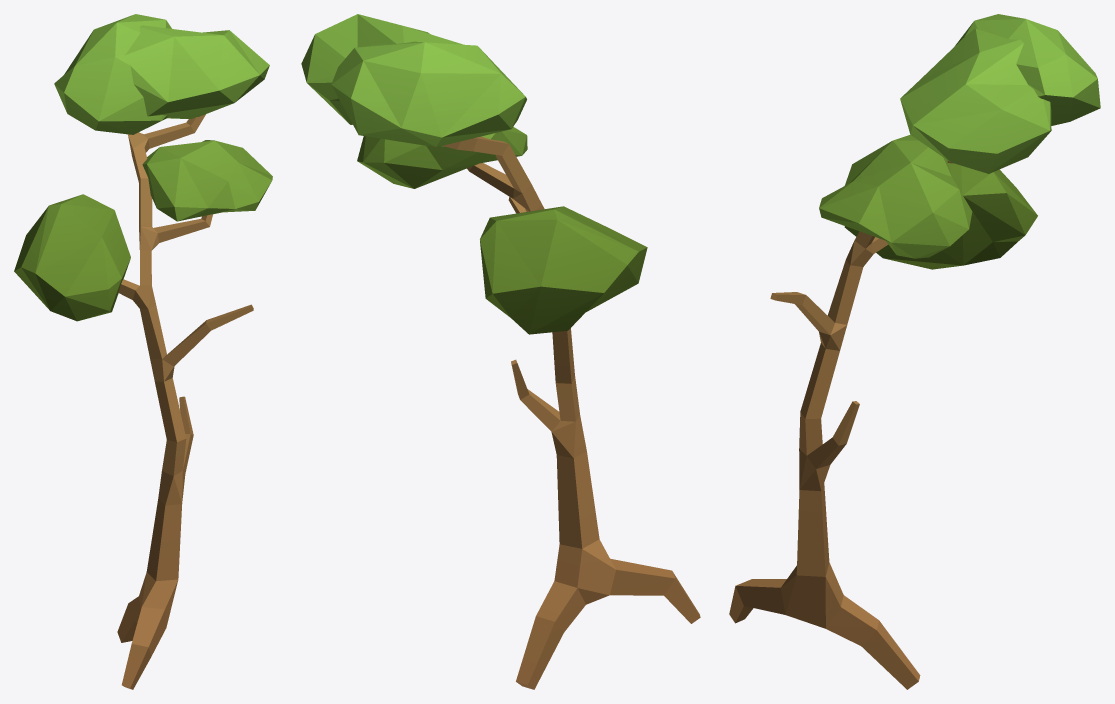
The model's file is LP_Tree_07.fbx.
3 renders of one model, left to right at view 1: azimuth 30°, elevation 25°; view 2: azimuth 150°, elevation 25°; view 3: azimuth 270°, elevation 25°, orthographic. The views are drawn at different scales.
Visible parts, largest first — view 1: LP_Tree_07_LOD0; view 2: LP_Tree_07_LOD0; view 3: LP_Tree_07_LOD0.
Boxes of the visible parts, x1=… form: LP_Tree_07_LOD0: x1=14, y1=14, x2=272, y2=689; LP_Tree_07_LOD0: x1=301, y1=14, x2=700, y2=689; LP_Tree_07_LOD0: x1=729, y1=14, x2=1100, y2=689.
Size of what is drawn, in the model's own units: 2.47 by 5.31 by 2.59.
